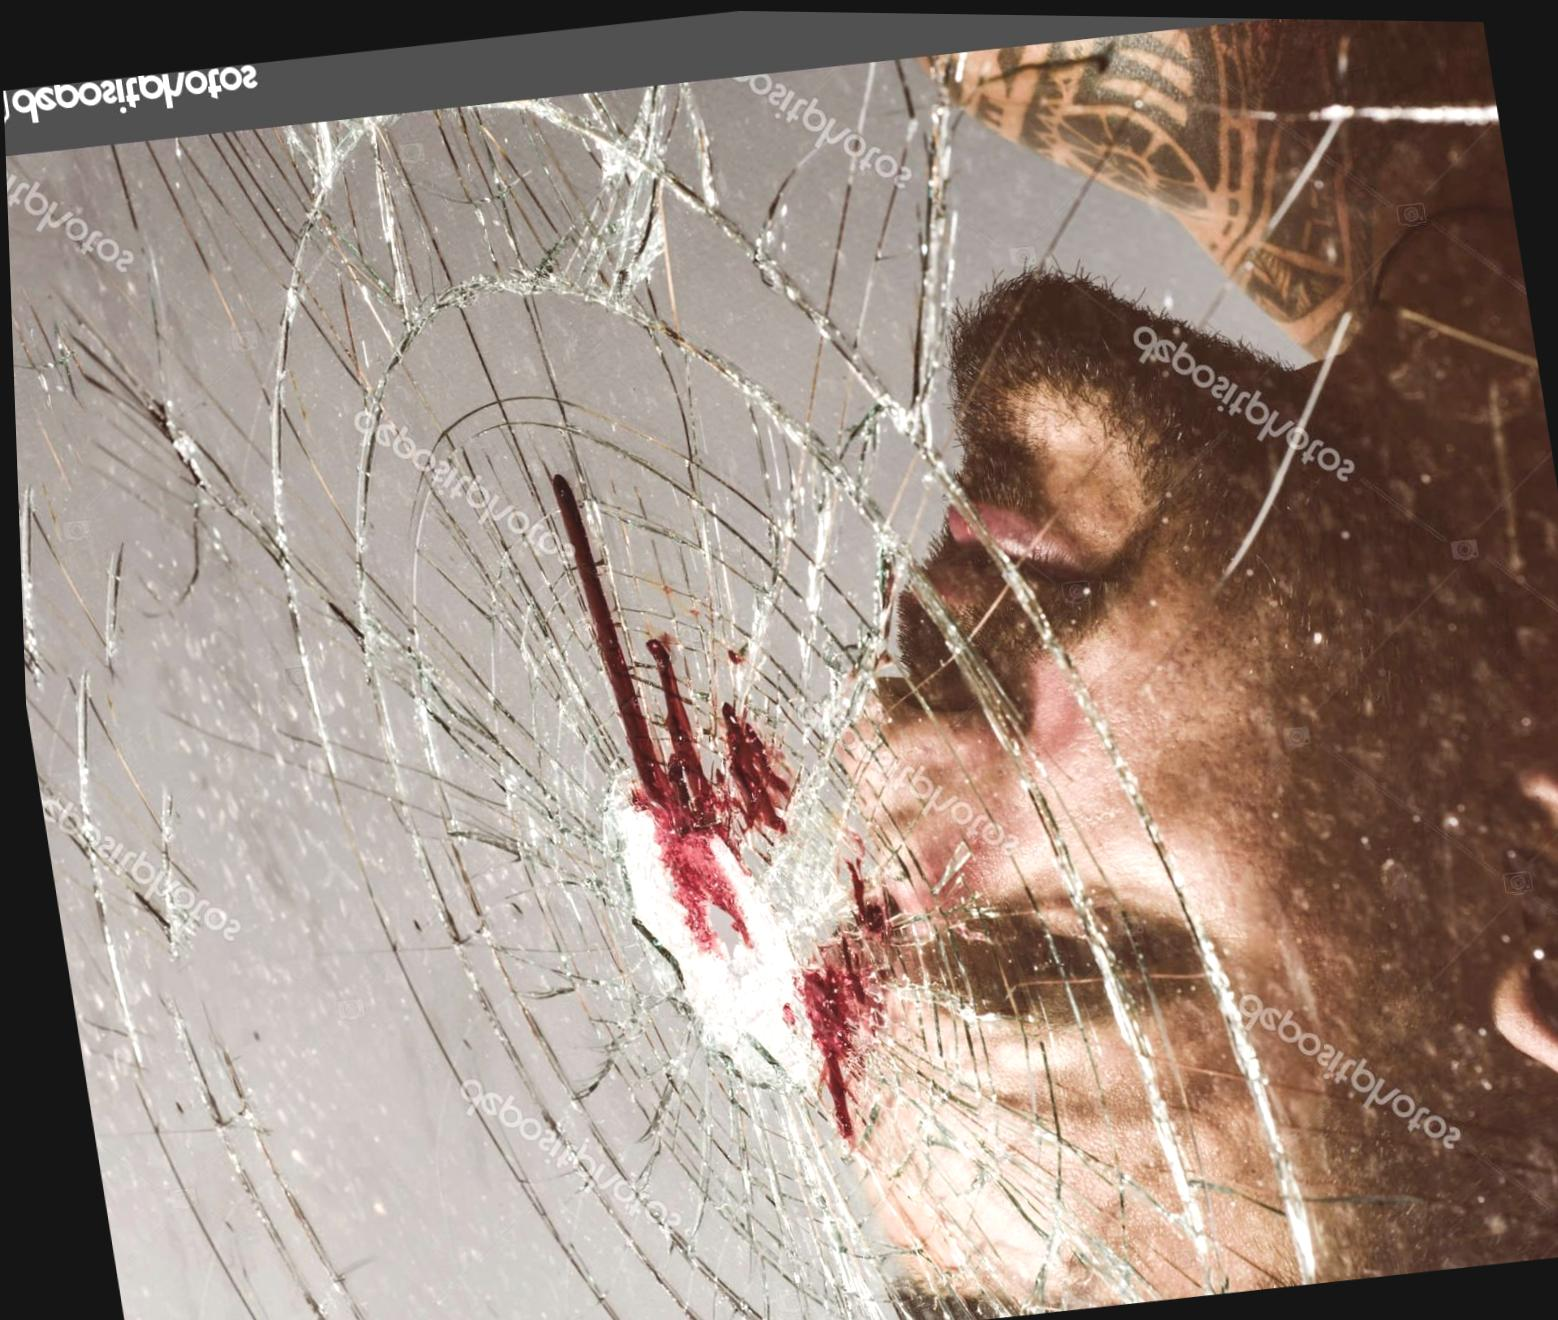Fire: (547, 473, 789, 960), (784, 930, 885, 1151), (837, 858, 886, 940)
